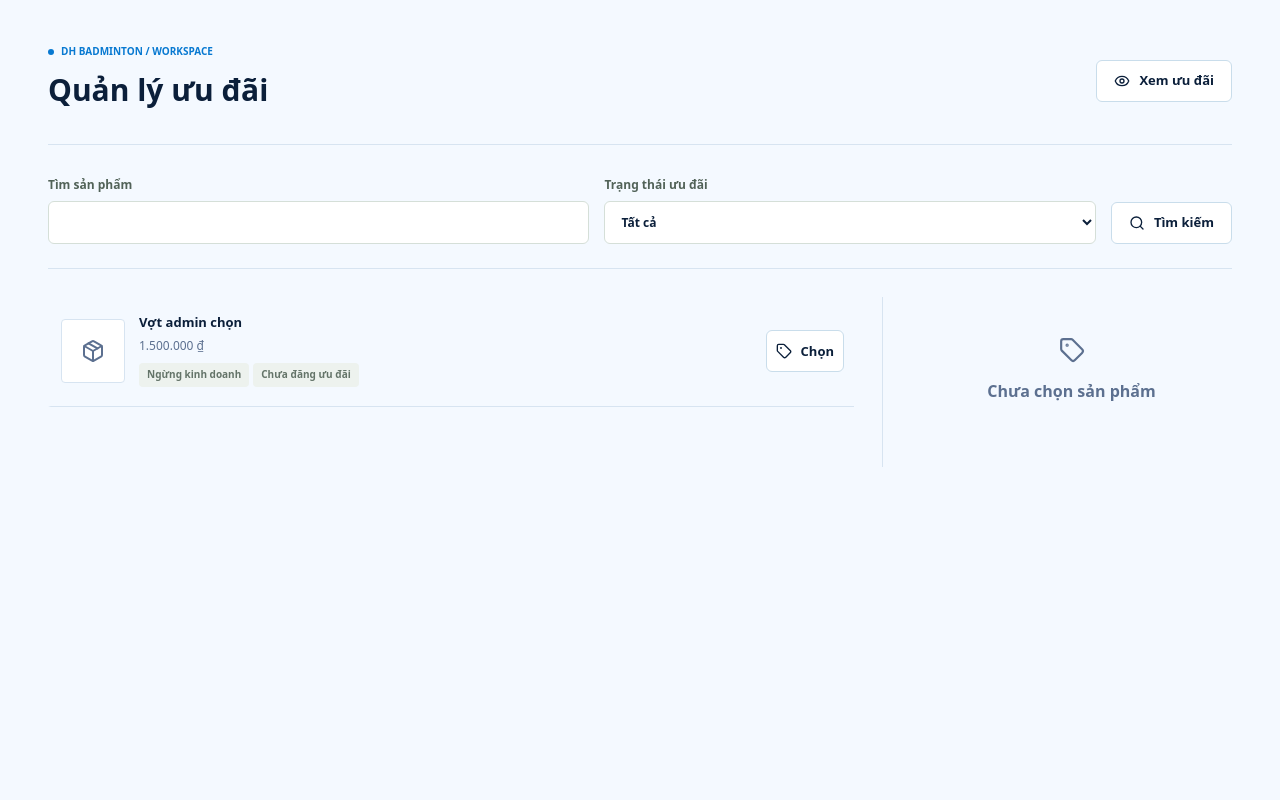
Test: cannot publish an unavailable product ({"status":"INACTIVE"})
The width and height of the screenshot is (1280, 800).
Click the button with aria-label "Chọn Vợt admin chọn" at (805, 351), box left=766, top=330, right=844, bottom=372
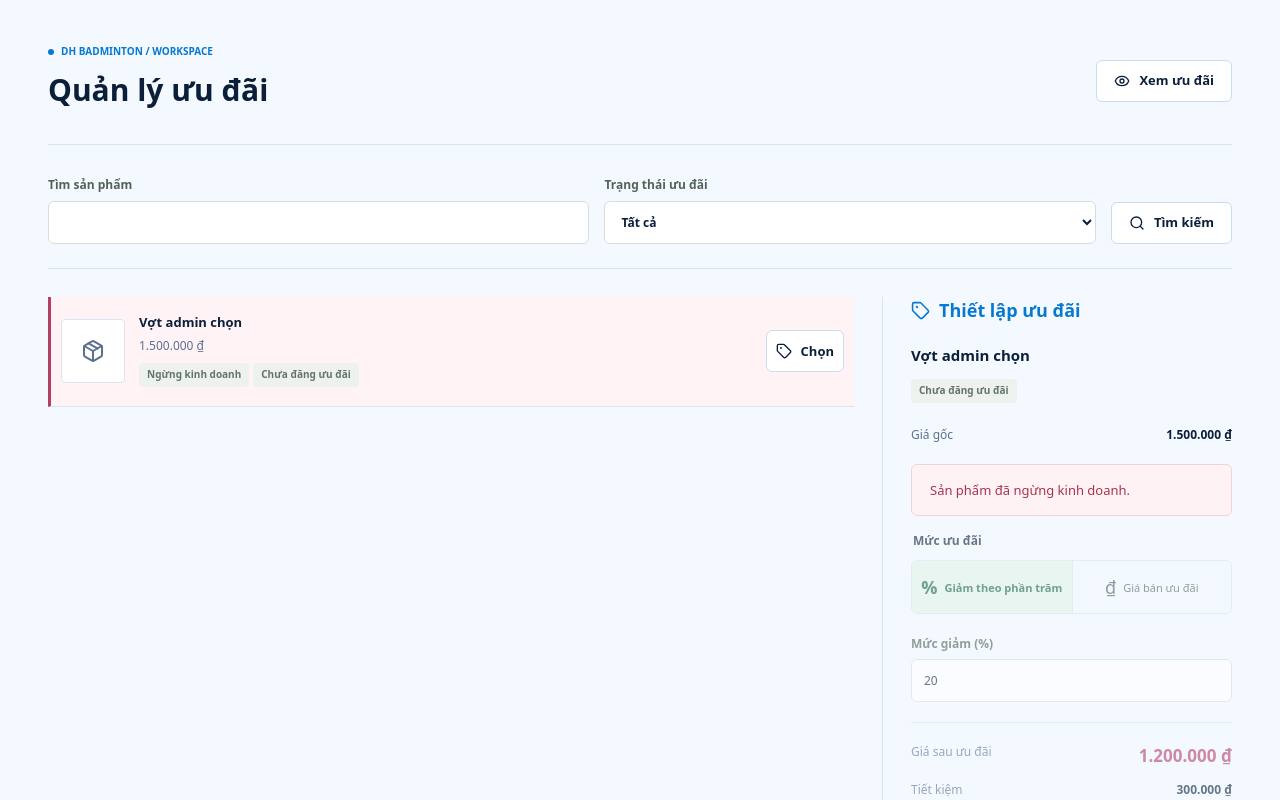
Result: the message "Sản phẩm đã ngừng kinh doanh." is shown at left=911, top=464, right=1232, bottom=516
